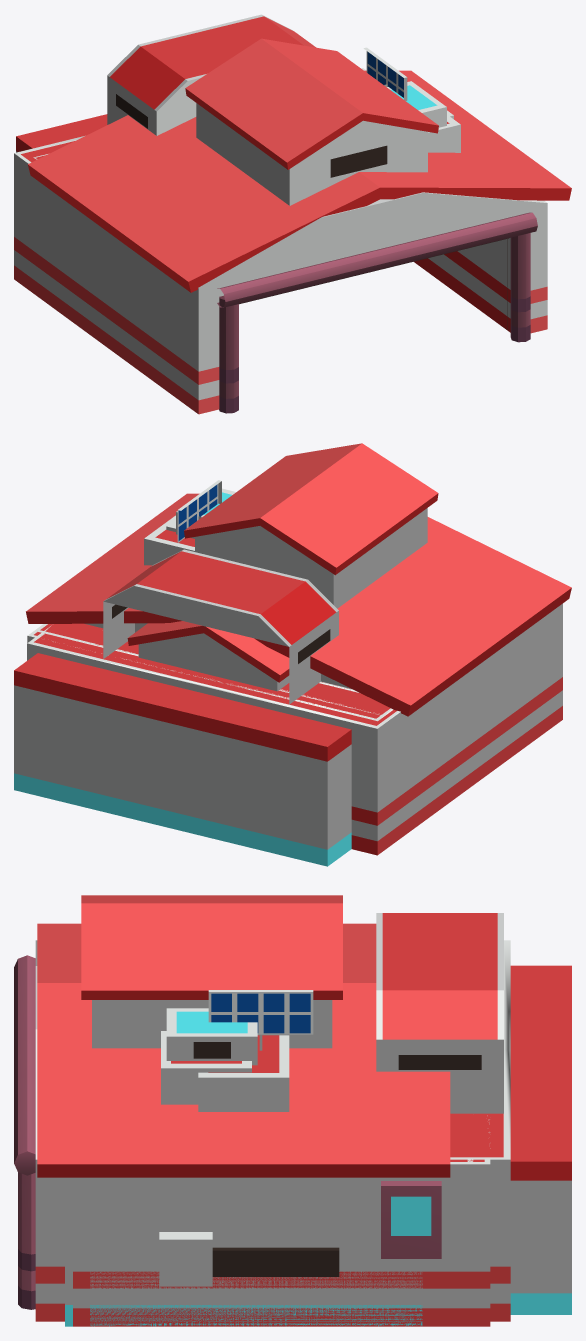
File: Nha_Nang_cap_Theme1_2.fbx
3 renders of one model, top to bottom at view 1: azimuth 30°, elevation 25°; view 2: azimuth 150°, elevation 25°; view 3: azimuth 270°, elevation 25°, orthographic. The views are drawn at different scales.
Parts seen in each view (by area): view 1: Nha_Nang_cap_Theme2_Lv4, Nha_Nang_cap_Theme1_Lv5, Nha_Nang_cap_Theme1_Lv4, Nha_Nang_cap_Theme1_Lv1, Nha_Nang_cap_Theme1_Lv3, Nha_Nang_cap_Theme1_Lv2, Nha_Nang_cap_Theme2_Lv5; view 2: Nha_Nang_cap_Theme1_Lv1, Nha_Nang_cap_Theme2_Lv4, Nha_Nang_cap_Theme1_Lv5, Nha_Nang_cap_Theme1_Lv4, Nha_Nang_cap_Theme1_Lv3, Nha_Nang_cap_Theme1_Lv2, Nha_Nang_cap_Theme2_Lv3, Nha_Nang_cap_Theme2_Lv1, Nha_Nang_cap_Theme2_Lv5; view 3: Nha_Nang_cap_Theme1_Lv1, Nha_Nang_cap_Theme1_Lv5, Nha_Nang_cap_Theme2_Lv1, Nha_Nang_cap_Theme2_Lv4, Nha_Nang_cap_Theme1_Lv4, Nha_Nang_cap_Theme1_Lv3, Nha_Nang_cap_Theme2_Lv3, Nha_Nang_cap_Theme2_Lv5, Nha_Nang_cap_Theme1_Lv2.
Boxes of the visible parts, x1,y1,x2,y2 form: Nha_Nang_cap_Theme2_Lv4: [14, 14, 547, 414]; Nha_Nang_cap_Theme1_Lv5: [61, 38, 506, 329]; Nha_Nang_cap_Theme1_Lv4: [62, 42, 571, 329]; Nha_Nang_cap_Theme1_Lv1: [16, 70, 561, 198]; Nha_Nang_cap_Theme1_Lv3: [61, 38, 524, 290]; Nha_Nang_cap_Theme1_Lv2: [61, 170, 571, 292]; Nha_Nang_cap_Theme2_Lv5: [363, 47, 407, 100]; Nha_Nang_cap_Theme1_Lv1: [14, 500, 443, 866]; Nha_Nang_cap_Theme2_Lv4: [27, 519, 562, 855]; Nha_Nang_cap_Theme1_Lv5: [127, 443, 569, 692]; Nha_Nang_cap_Theme1_Lv4: [129, 444, 571, 691]; Nha_Nang_cap_Theme1_Lv3: [181, 444, 438, 675]; Nha_Nang_cap_Theme1_Lv2: [179, 493, 529, 675]; Nha_Nang_cap_Theme2_Lv3: [34, 515, 382, 715]; Nha_Nang_cap_Theme2_Lv1: [27, 631, 393, 721]; Nha_Nang_cap_Theme2_Lv5: [177, 480, 221, 542]; Nha_Nang_cap_Theme1_Lv1: [62, 923, 571, 1326]; Nha_Nang_cap_Theme1_Lv5: [37, 895, 365, 1326]; Nha_Nang_cap_Theme2_Lv1: [90, 1115, 490, 1326]; Nha_Nang_cap_Theme2_Lv4: [14, 913, 510, 1321]; Nha_Nang_cap_Theme1_Lv4: [37, 895, 365, 1325]; Nha_Nang_cap_Theme1_Lv3: [37, 895, 365, 1326]; Nha_Nang_cap_Theme2_Lv3: [73, 1035, 473, 1326]; Nha_Nang_cap_Theme2_Lv5: [208, 990, 313, 1050]; Nha_Nang_cap_Theme1_Lv2: [37, 924, 365, 1325].
Bounding box in the file's own units: 138 × 83.94 × 135.
